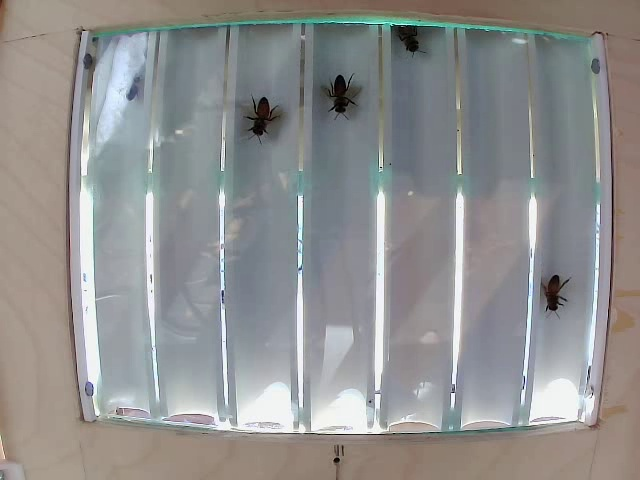bee: (247, 99, 290, 140), (327, 69, 361, 118), (542, 259, 569, 316), (390, 21, 430, 49)
